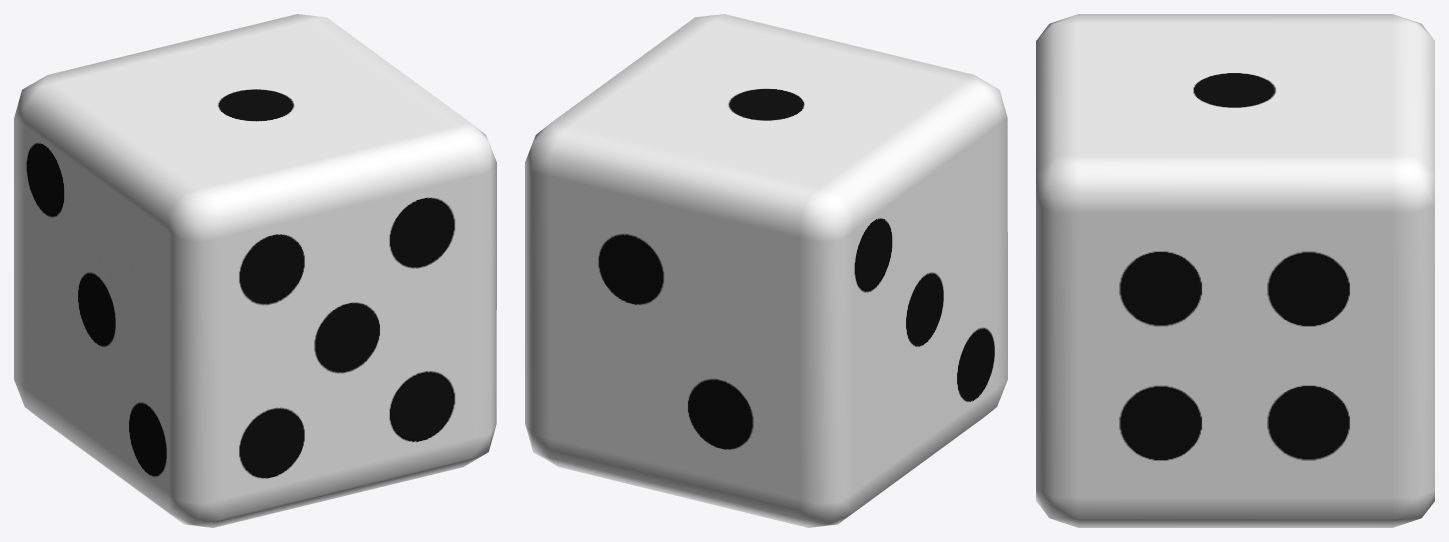
File: FBX_Dice.fbx
3 views of the same model, side by side, from view 1: azimuth 30°, elevation 25°; view 2: azimuth 150°, elevation 25°; view 3: azimuth 270°, elevation 25° (orthographic). The views are drawn at different scales.
Visible parts, largest first — view 1: Dice; view 2: Dice; view 3: Dice.
Boxes of the visible parts, x1=… form: Dice: x1=14, y1=14, x2=496, y2=527; Dice: x1=525, y1=14, x2=1007, y2=527; Dice: x1=1036, y1=14, x2=1434, y2=527.
Size of the model in its own units: 113 by 113 by 113.
